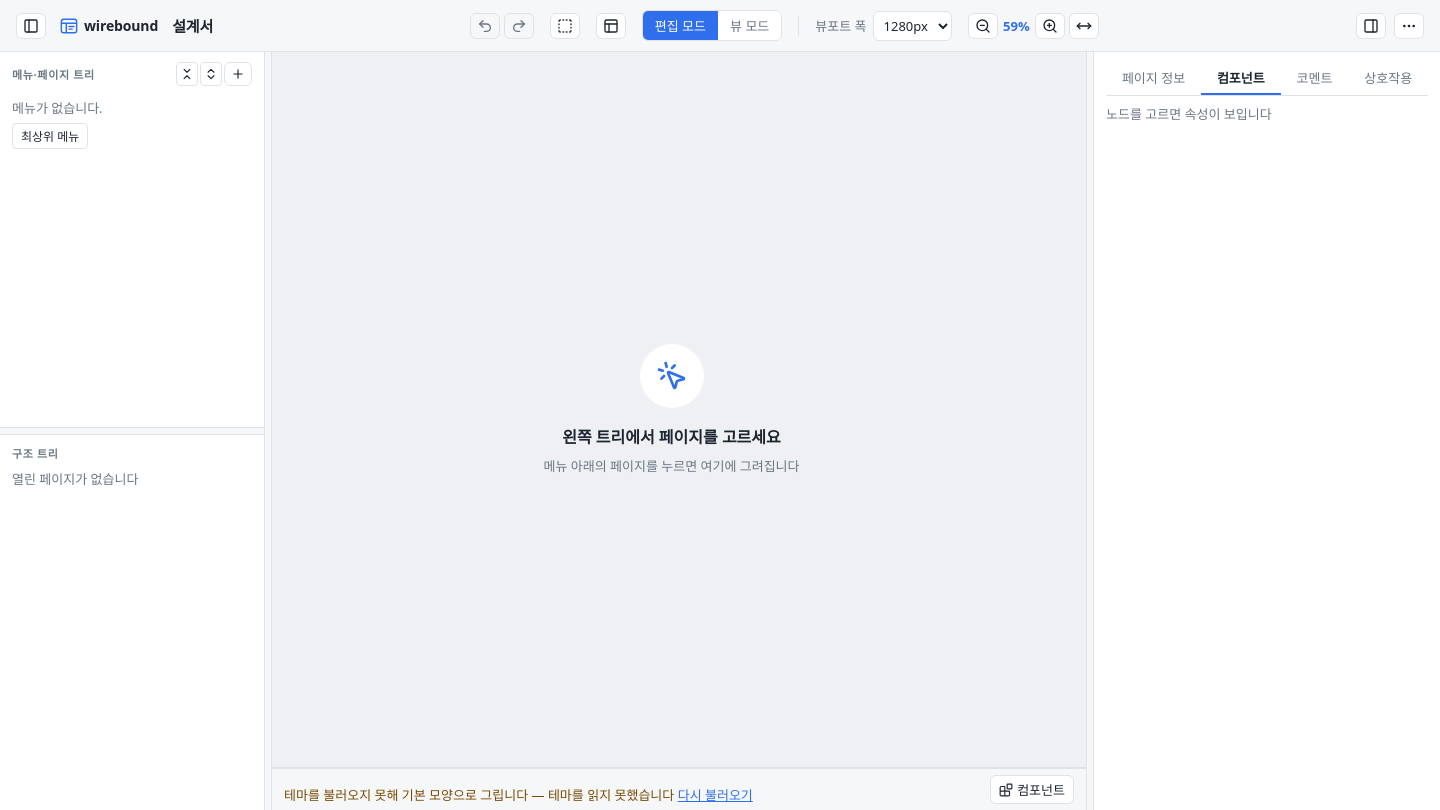
Test: 빈 메뉴 트리 — 최상위 메뉴를 만드는 자리 › 뷰 모드에는 버튼이 없고 빈 상태 문장만 남는다
The image size is (1440, 810).
Expected: the heading "설계서" is shown, [172, 15, 213, 36]
Expected: the text "메뉴가 없습니다." is shown, [12, 98, 103, 117]
Click the button "뷰 모드". click: (750, 26)
box: [718, 11, 781, 40]
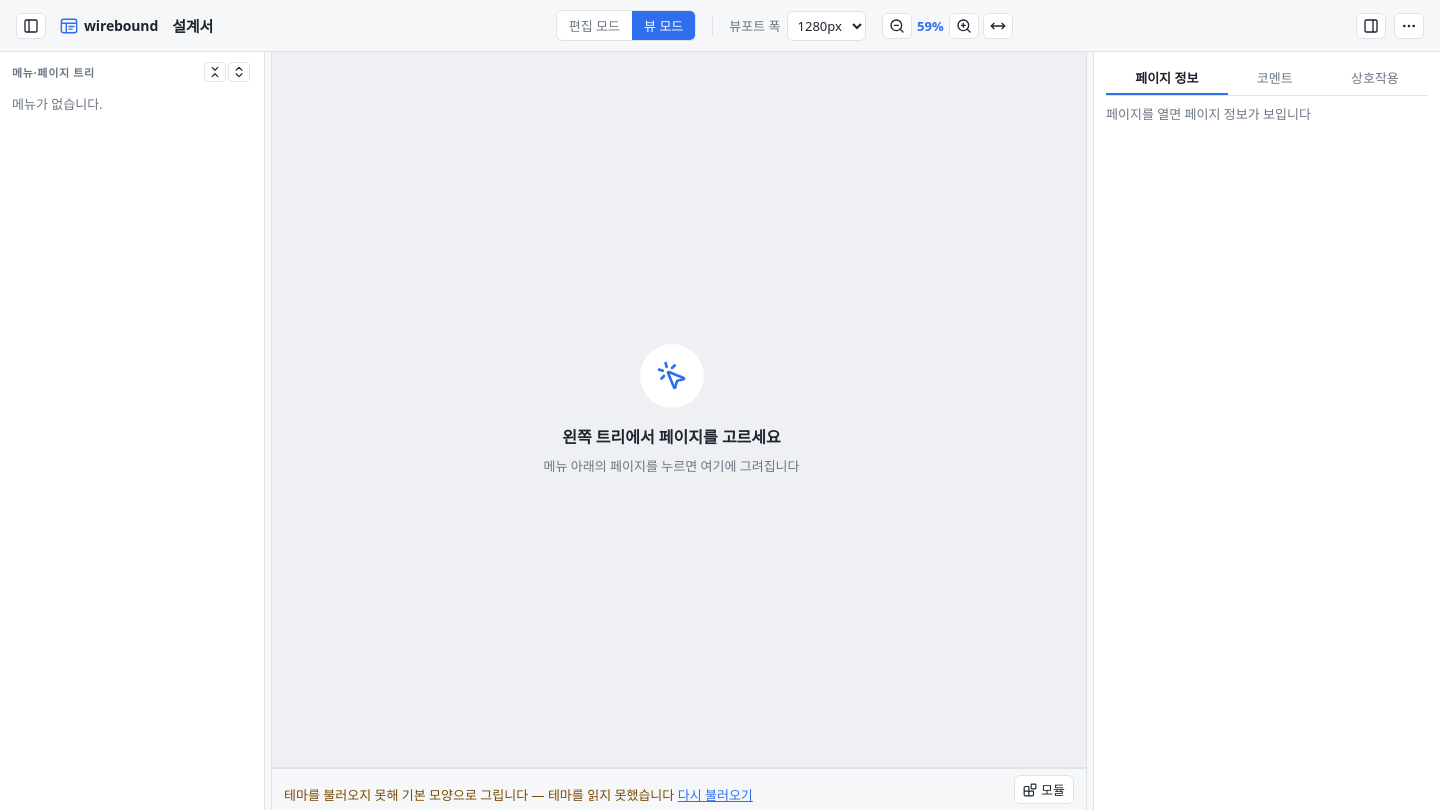
Expected: the text "메뉴가 없습니다." is shown, [12, 94, 103, 113]
Expected: the button "최상위 메뉴" is gone
